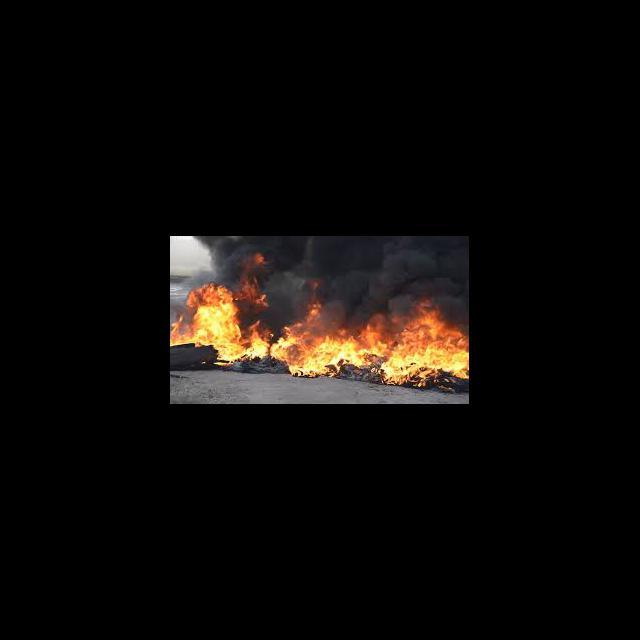Fire: (384, 298, 468, 389), (170, 283, 242, 386), (274, 314, 383, 378), (242, 318, 270, 368), (242, 272, 270, 312), (308, 280, 323, 312), (255, 253, 265, 264)
Smoke: (326, 236, 469, 298), (242, 237, 326, 277), (172, 237, 240, 282), (274, 272, 306, 312)
